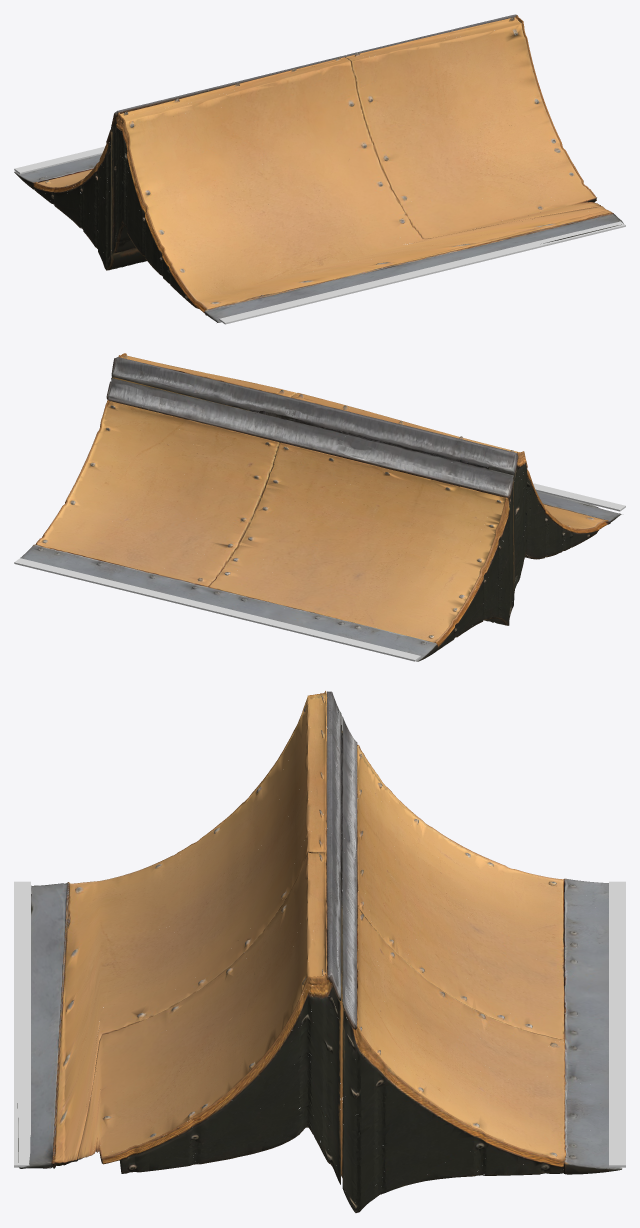
Rendered from spine.glb.
The picture shows the model from 3 angles, top to bottom: view 1: azimuth 30°, elevation 25°; view 2: azimuth 150°, elevation 25°; view 3: azimuth 270°, elevation 25°; orthographic projection. The views are drawn at different scales.
Visible parts, largest first — view 1: spine original textured mesh fitted, Spine entry plate -1, Spine entry plate +1; view 2: spine original textured mesh fitted, Spine entry plate +1, Spine entry plate -1; view 3: spine original textured mesh fitted, Spine entry plate +1, Spine entry plate -1.
Boxes of the visible parts, x1=… form: spine original textured mesh fitted: x1=14, y1=14, x2=623, y2=322; Spine entry plate -1: x1=219, y1=221, x2=625, y2=324; Spine entry plate +1: x1=14, y1=146, x2=104, y2=174; spine original textured mesh fitted: x1=20, y1=353, x2=621, y2=661; Spine entry plate +1: x1=14, y1=558, x2=420, y2=661; Spine entry plate -1: x1=533, y1=483, x2=625, y2=511; spine original textured mesh fitted: x1=17, y1=691, x2=622, y2=1212; Spine entry plate +1: x1=609, y1=881, x2=625, y2=1167; Spine entry plate -1: x1=14, y1=881, x2=30, y2=1167.
Bounding box in the file's own units: 7.04 × 2.81 × 6.33.
Materials: 2 (1 with a texture image).
